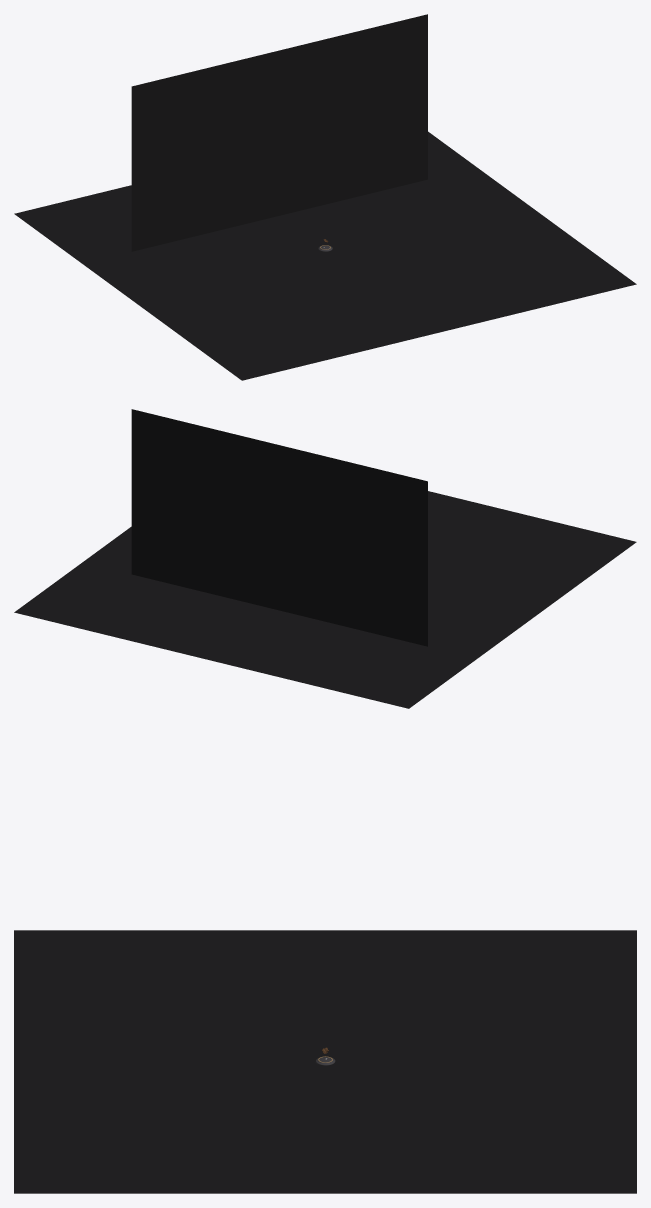
The model's file is chenpi_source.glb.
The picture shows the model from 3 angles, top to bottom: view 1: azimuth 30°, elevation 25°; view 2: azimuth 150°, elevation 25°; view 3: azimuth 270°, elevation 25°; orthographic projection. The views are drawn at different scales.
Parts seen in each view (by area): view 1: Background; view 2: Background; view 3: Background.
Boxes of the visible parts, x1,y1,x2,y2 form: Background: (14, 14, 636, 380); Background: (14, 409, 636, 708); Background: (14, 930, 636, 1193).
Size of the model in its own units: 8 by 3.23 by 8.
7 materials, 1 textured.
